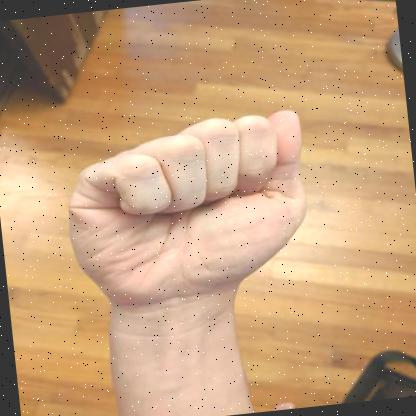A: (67, 109, 306, 312)
